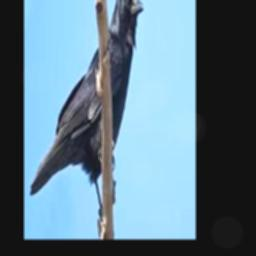Crow: (29, 0, 143, 209)
